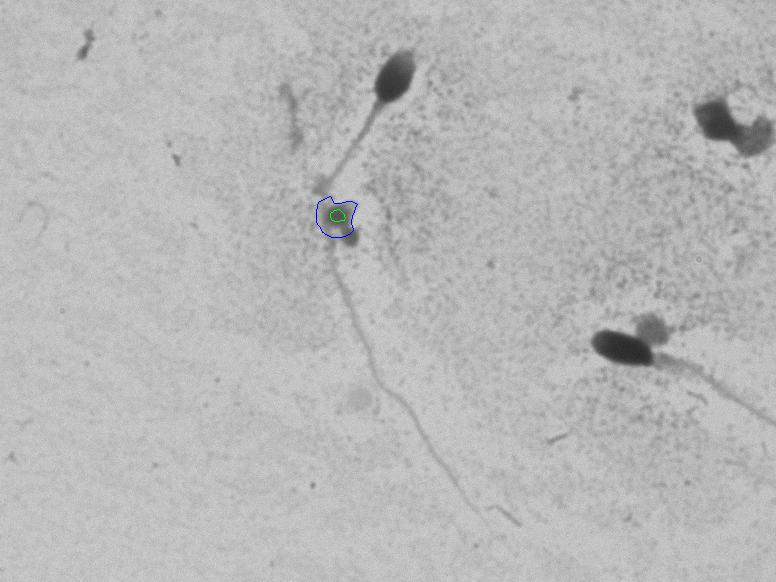Abnormal: (569, 274, 751, 436)
Normal: (235, 23, 518, 534)
